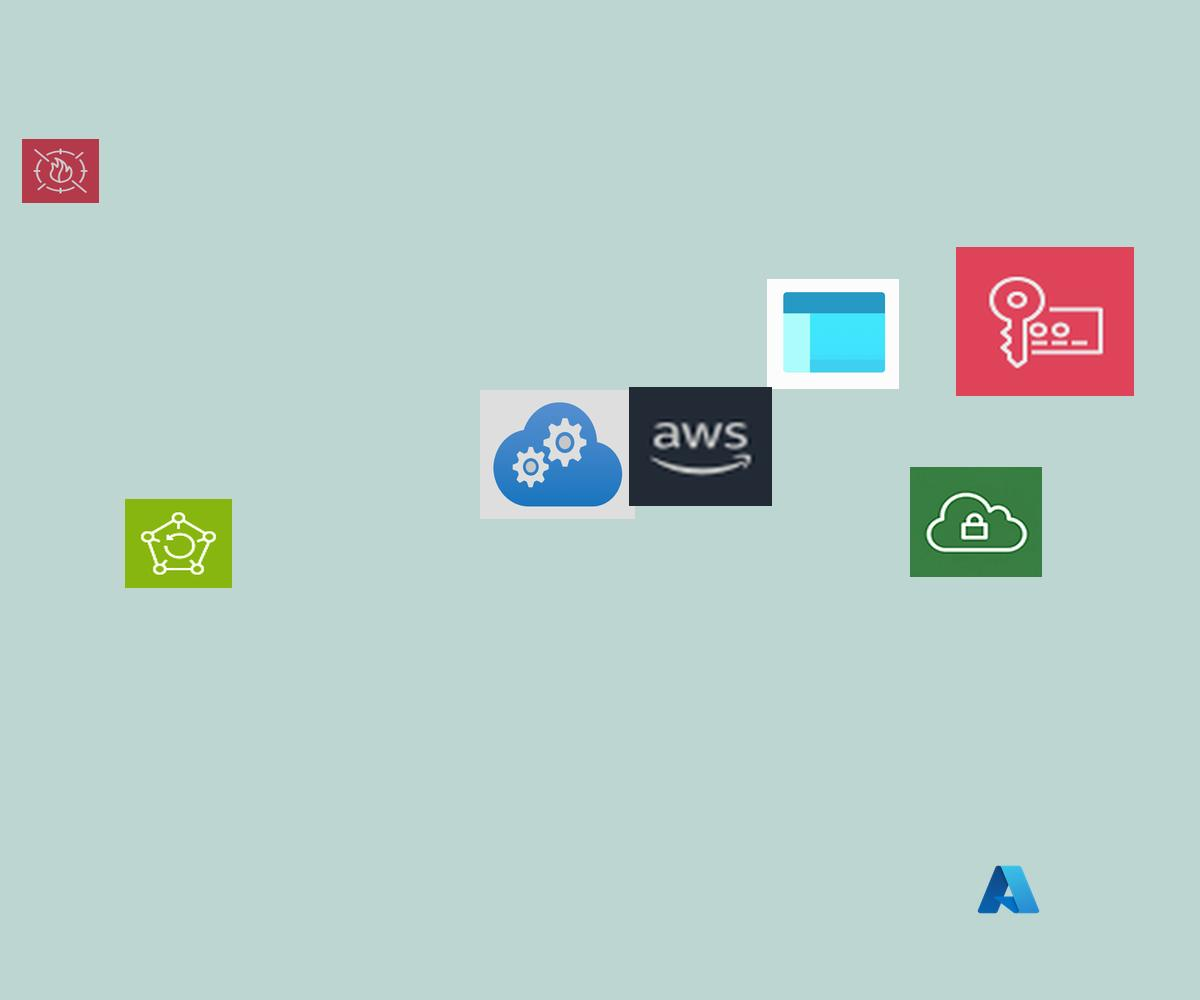AWS-Backup: (125, 499, 232, 588)
AWS-Cloud-logo: (629, 387, 772, 506)
AWS-Key-Management-Service: (956, 247, 1134, 396)
AWS-Private_vpc: (910, 467, 1042, 577)
AWS-WAF: (22, 139, 99, 203)
Azure_cloud_services: (480, 390, 635, 519)
Azure_management-portal: (767, 279, 899, 389)
Azure_services: (975, 862, 1042, 917)
